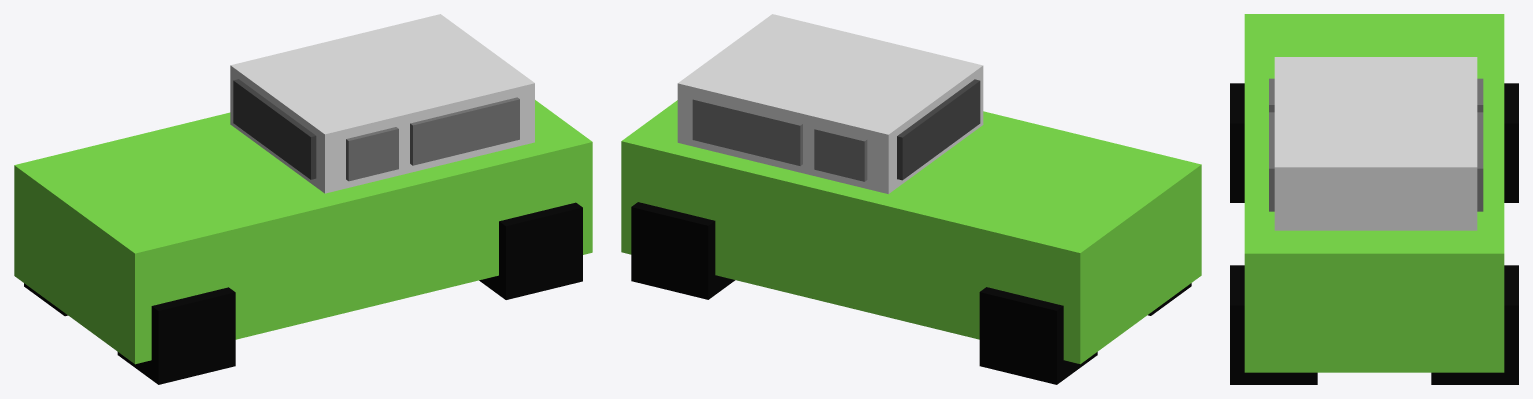
Rendered from enemy1.gltf.
3 renders of one model, left to right at view 1: azimuth 30°, elevation 25°; view 2: azimuth 150°, elevation 25°; view 3: azimuth 270°, elevation 25°, orthographic. The views are drawn at different scales.
Visible parts, largest first — view 1: body.001, glass_cube, Cube, glass, Cube.001; view 2: body.001, glass_cube, Cube, glass, Cube.001; view 3: body.001, glass_cube, Cube, glass.
Part boxes in pixels (bbox=[...]): body.001: bbox=[14, 100, 592, 364]; glass_cube: bbox=[230, 14, 534, 193]; Cube: bbox=[24, 202, 582, 384]; glass: bbox=[346, 97, 519, 181]; Cube.001: bbox=[233, 79, 316, 179]; body.001: bbox=[621, 100, 1201, 364]; glass_cube: bbox=[677, 14, 983, 193]; Cube: bbox=[631, 202, 1191, 384]; glass: bbox=[692, 97, 867, 181]; Cube.001: bbox=[897, 79, 980, 180]; body.001: bbox=[1244, 14, 1504, 372]; glass_cube: bbox=[1274, 57, 1477, 230]; Cube: bbox=[1230, 83, 1518, 384]; glass: bbox=[1269, 78, 1483, 211].
Size of the model in its own units: 2.86 by 1.13 by 1.45.
